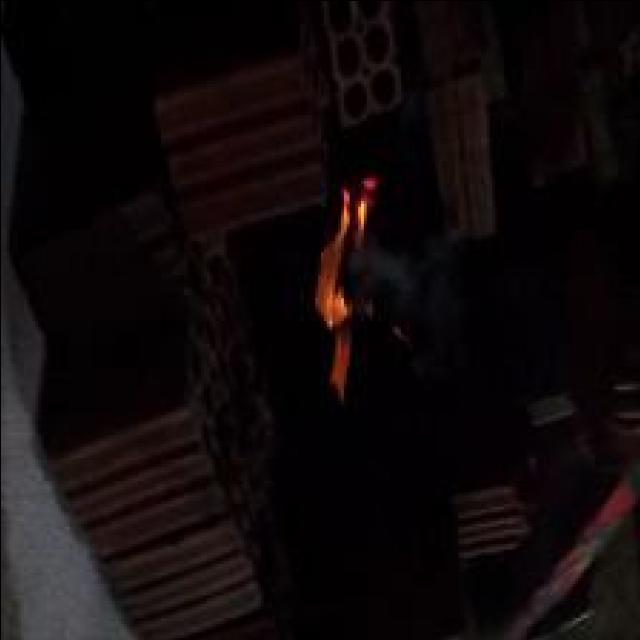Fire: (314, 175, 382, 398)
